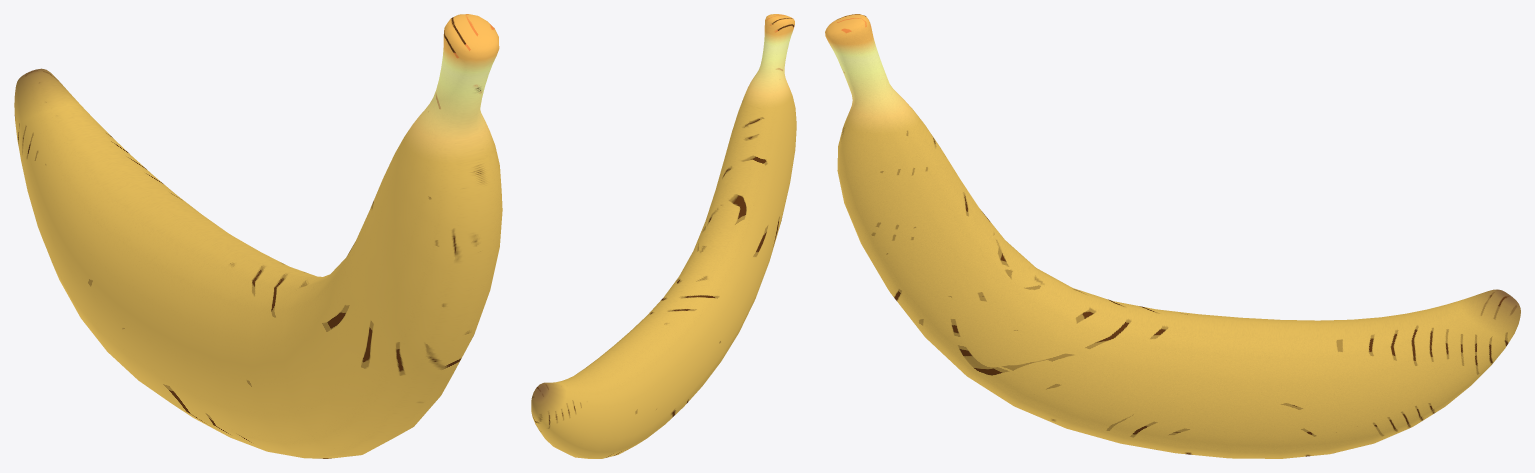
Rendered from Banana.glb.
3 views of the same model, side by side, from view 1: azimuth 30°, elevation 25°; view 2: azimuth 150°, elevation 25°; view 3: azimuth 270°, elevation 25° (orthographic). The views are drawn at different scales.
Parts seen in each view (by area): view 1: mesh; view 2: mesh; view 3: mesh.
Boxes of the visible parts, x1=… form: mesh: x1=14, y1=14, x2=502, y2=458; mesh: x1=531, y1=14, x2=796, y2=458; mesh: x1=825, y1=14, x2=1520, y2=458.
Size of the model in its own units: 1.13 by 5.11 by 7.37.
1 material, 1 textured.
